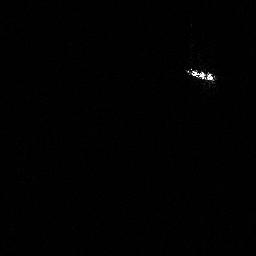ship: (183, 65, 218, 83)
